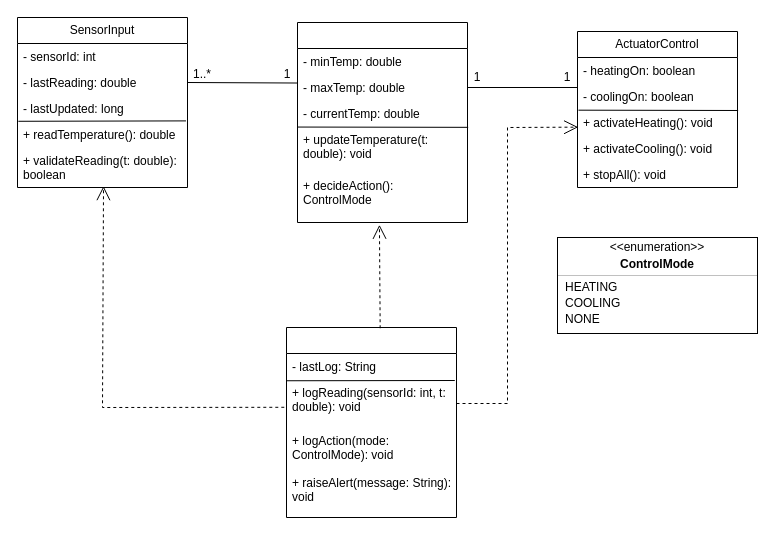
This 775x538 diagram has some shape labels left out. Each missing label, with the box of its shape:
SystemMonitoring: (286, 326, 456, 518)
TemperatureController: (296, 22, 468, 222)
